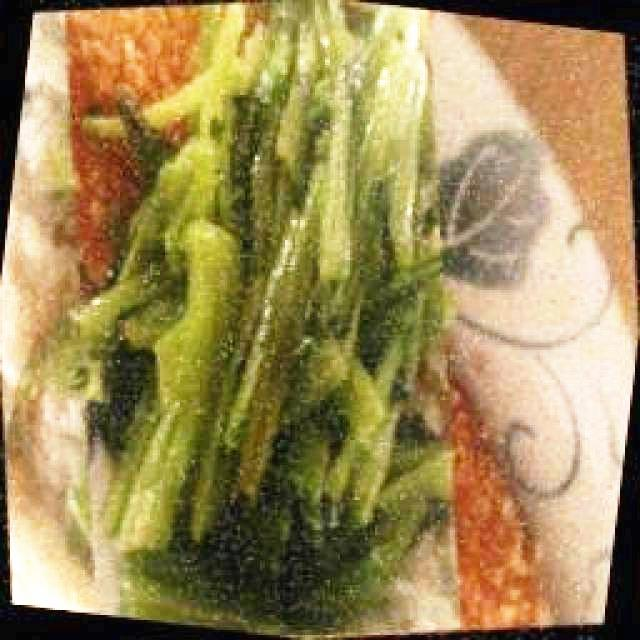water_spinach: (122, 11, 436, 625)
